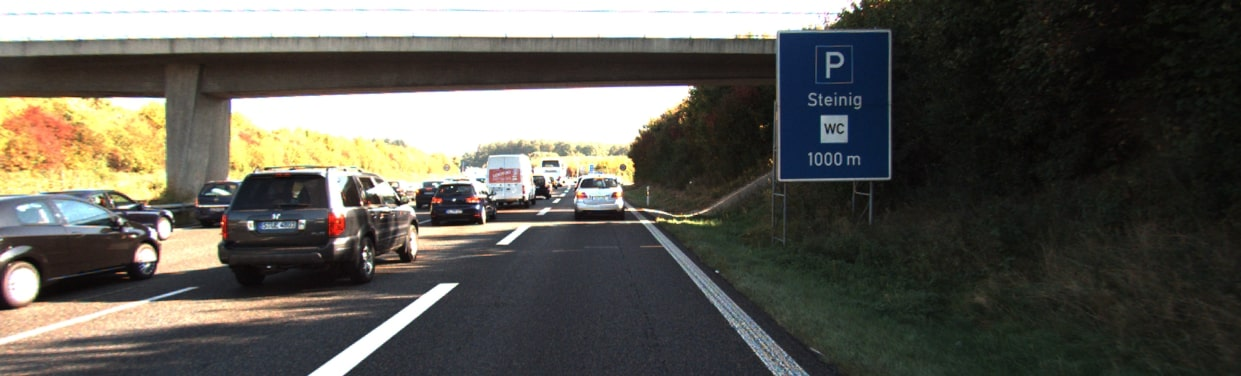car: (217, 166, 424, 289), (1, 194, 160, 305), (66, 183, 192, 235), (487, 152, 531, 214), (429, 182, 483, 224), (196, 174, 238, 227), (577, 174, 628, 216), (413, 183, 433, 214), (535, 173, 551, 198)
